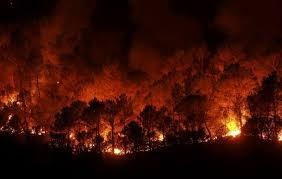fire: (219, 113, 244, 139), (152, 128, 167, 142)
